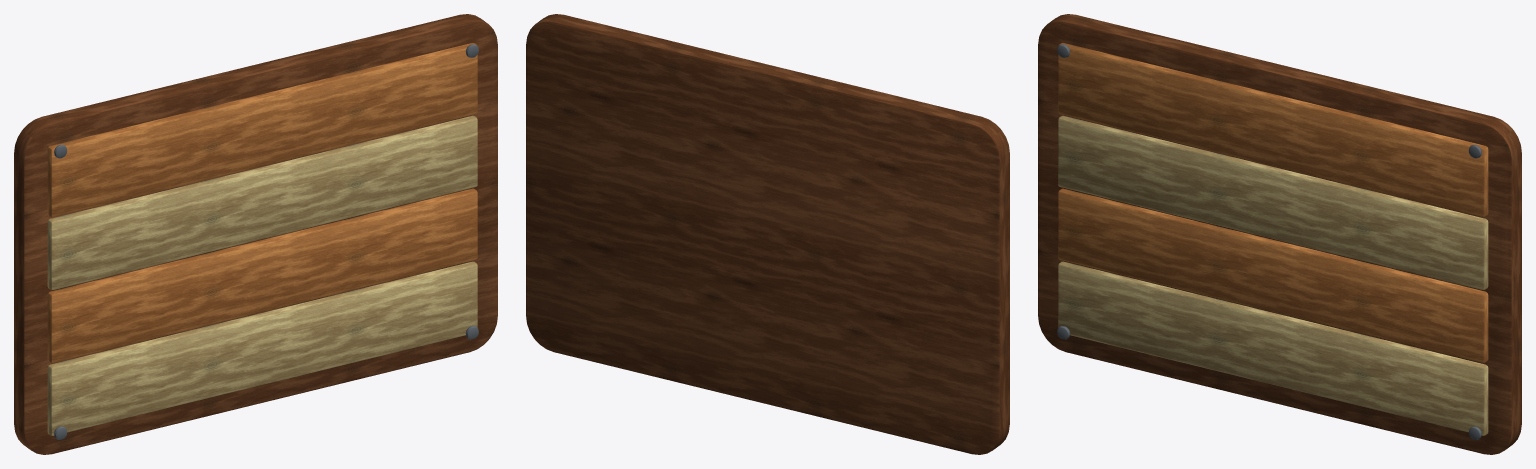
The model's file is panel_madera.gltf.
3 renders of one model, left to right at view 1: azimuth 30°, elevation 25°; view 2: azimuth 150°, elevation 25°; view 3: azimuth 330°, elevation 25°, orthographic.
Parts seen in each view (by area): view 1: panel_madera; view 2: panel_madera; view 3: panel_madera.
Boxes of the visible parts, x1,y1,x2,y2 form: panel_madera: [14, 14, 497, 454]; panel_madera: [526, 14, 1009, 454]; panel_madera: [1038, 14, 1521, 454].
Size of the model in its own units: 3 by 2 by 0.19.
4 materials, 4 textured.
